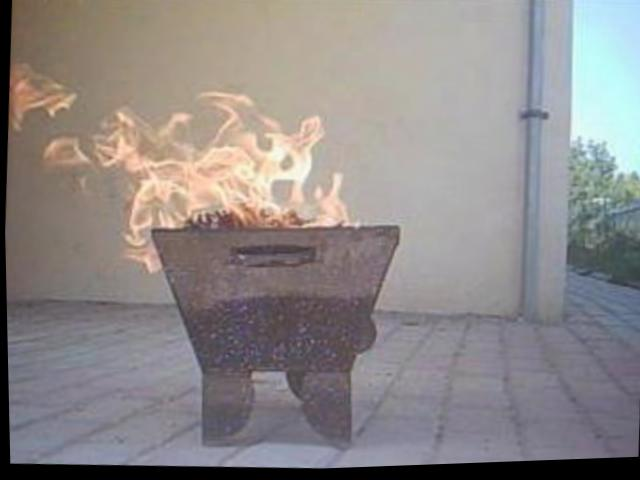fire: (11, 5, 387, 277)
